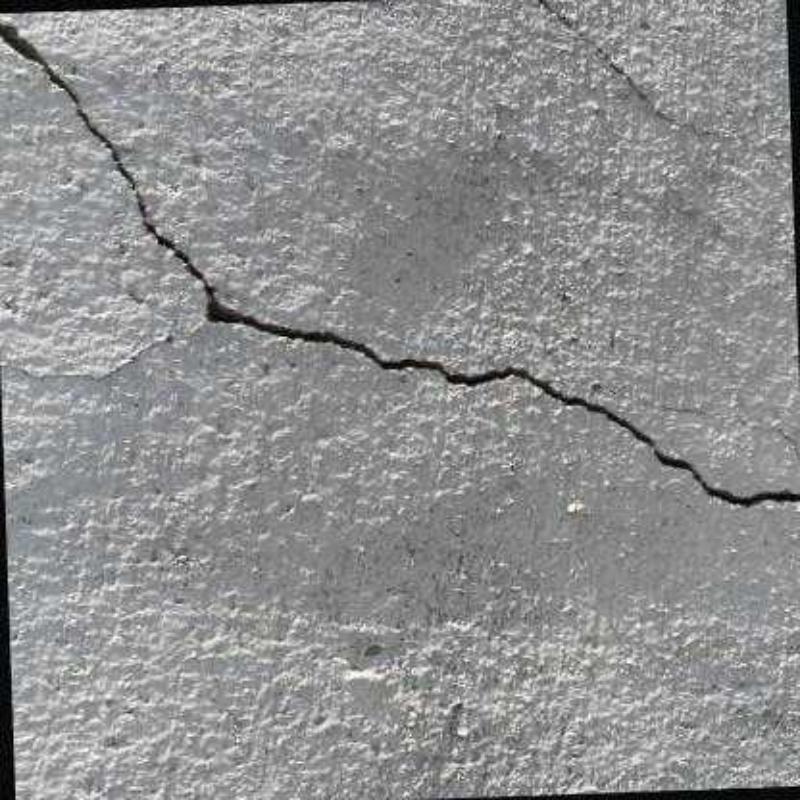pothole: (0, 17, 800, 517)
